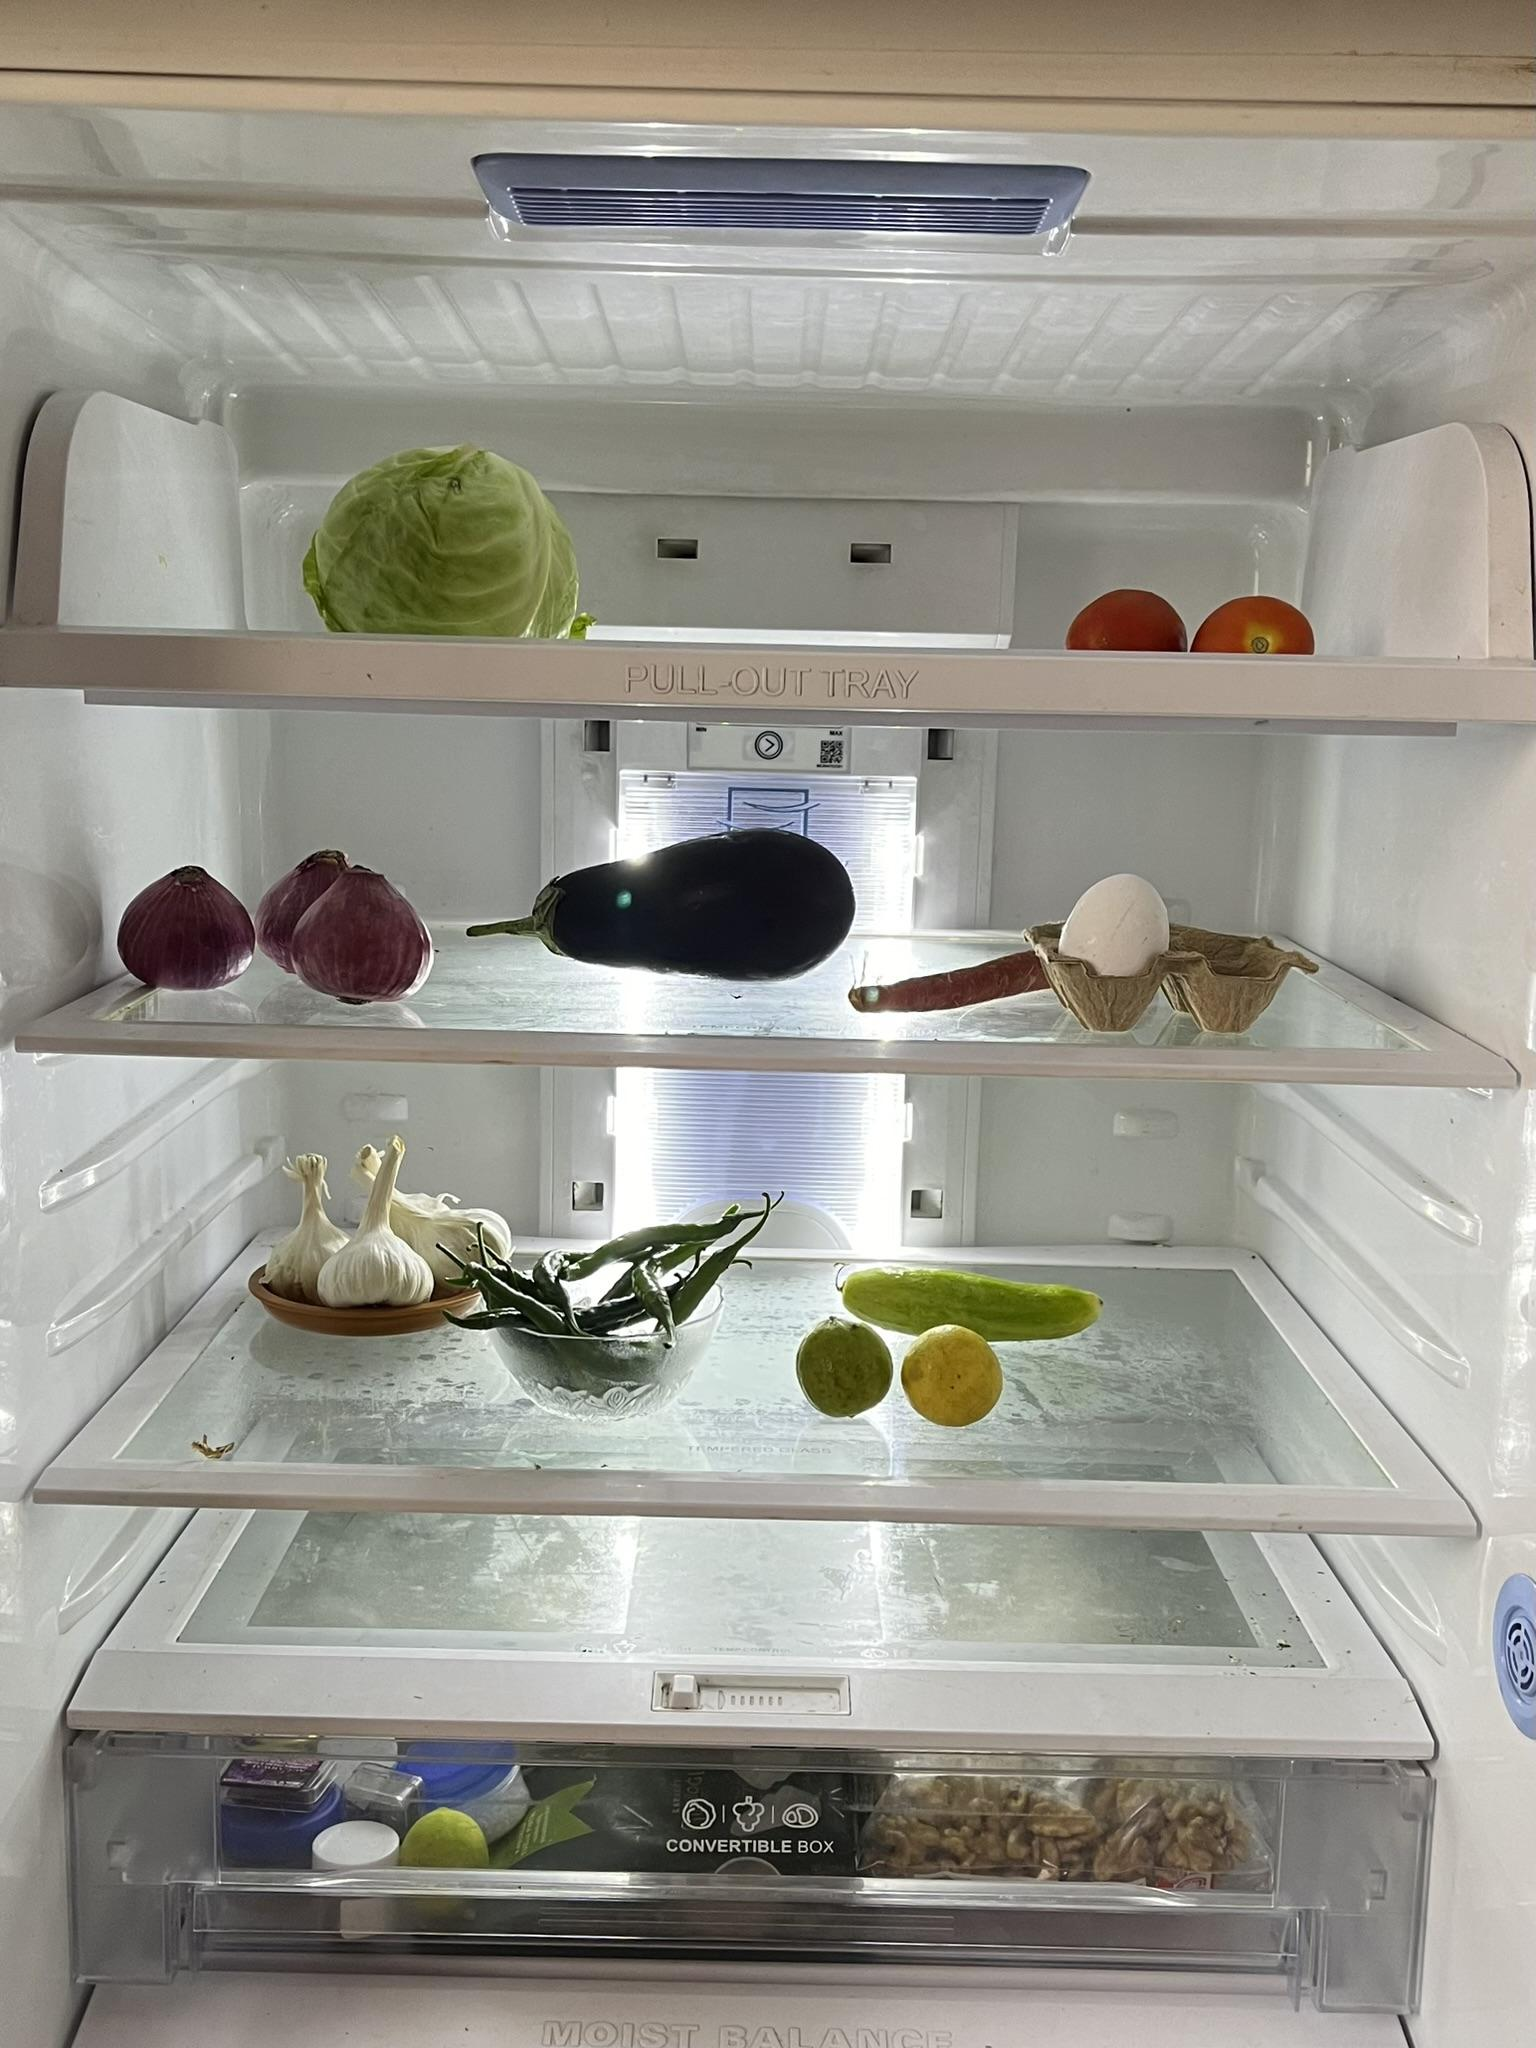cabbage: (297, 440, 584, 634)
carrots: (826, 956, 1050, 1013)
chillies: (444, 1190, 773, 1427)
cucumber: (820, 1253, 1126, 1337)
egg: (1054, 856, 1183, 1024)
garlic: (266, 1134, 520, 1321)
lemon: (904, 1324, 1020, 1434), (800, 1313, 900, 1416)
onion: (257, 837, 440, 1006), (106, 853, 253, 997)
tomato: (1191, 587, 1317, 656), (1057, 584, 1191, 647)
